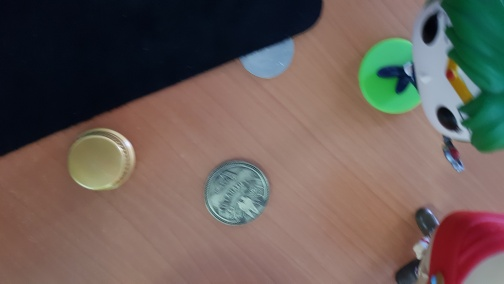coin: (204, 159, 271, 226), (237, 36, 295, 79)
